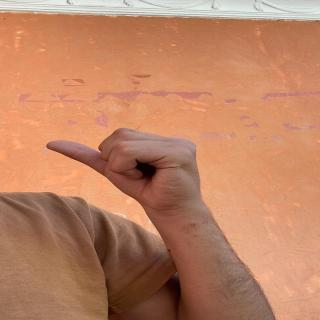WAW: (49, 121, 207, 208)
